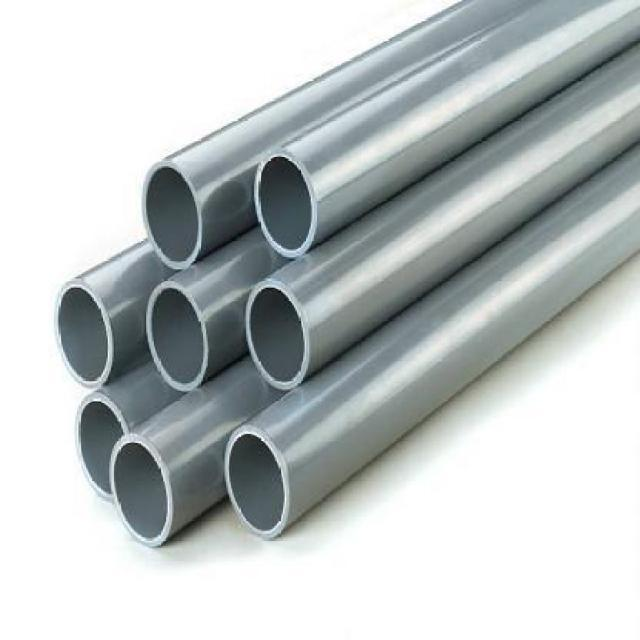pipe: (254, 146, 319, 259), (246, 278, 311, 391), (225, 426, 290, 539), (109, 434, 174, 547), (148, 280, 209, 393), (142, 159, 204, 270), (54, 279, 114, 390), (76, 394, 130, 502)
